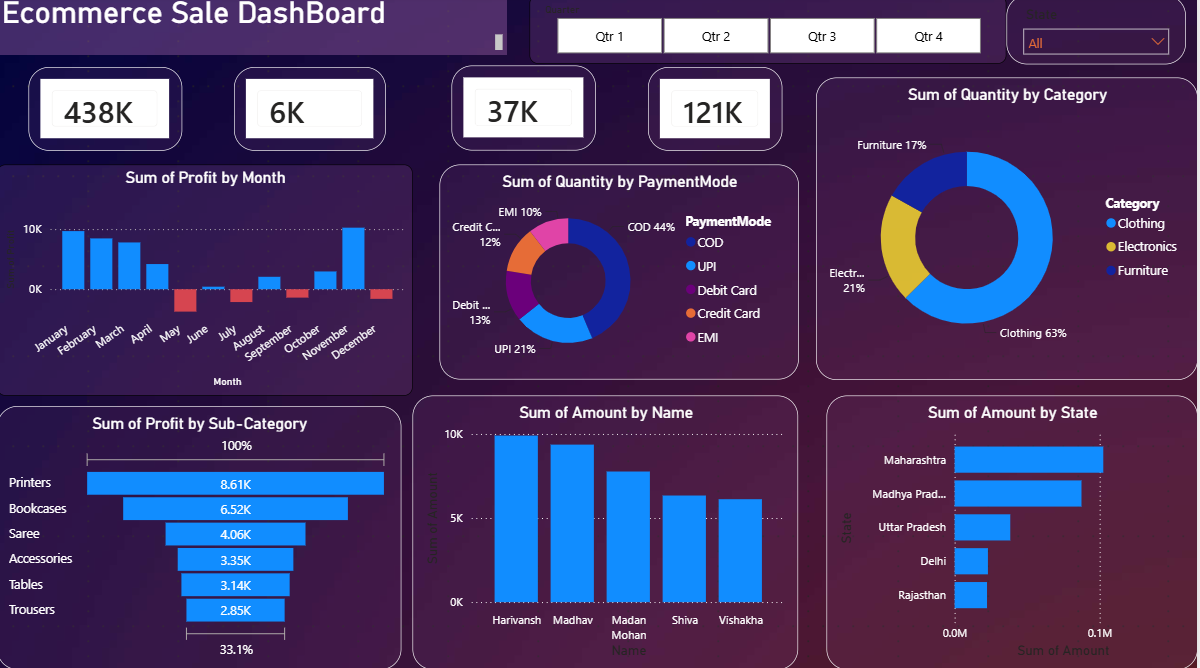

The dashboard page shown, as its layout file describes it:
{"tool":"powerbi","page":{"name":"Page 1","canvas":[1280,720],"ordinal":0},"visuals":[{"type":"textbox","title":"Ecommerce Sale DashBoard","box":[0,0,544,64],"z":0},{"type":"columnChart","fields":{"Category":["Orders.Order Date.Variation.Date Hierarchy.Month"],"Y":["Sum(Details (1).Profit)"]},"box":[0,181.2,443.5,246.4],"z":1000},{"type":"funnel","fields":{"Category":["Details (1).Sub-Category"],"Y":["Sum(Details (1).Profit)"]},"box":[0,439,431.1,281.5],"z":2000},{"type":"donutChart","fields":{"Y":["Sum(Details (1).Quantity)"],"Category":["Details (1).Category"]},"box":[873.2,87.5,407.2,322.9],"z":3000},{"type":"donutChart","fields":{"Y":["Sum(Details (1).Quantity)"],"Category":["Details (1).PaymentMode"]},"box":[472.4,181.3,383.3,229],"z":4000},{"type":"cardVisual","fields":{"Data":["Sum(Details (1).Amount)"]},"box":[33.4,76.3,163.8,89.1],"z":5000},{"type":"cardVisual","fields":{"Data":["Sum(Details (1).Quantity)"]},"box":[252.9,76.3,162.2,89.1],"z":6000},{"type":"cardVisual","fields":{"Data":["Sum(Details (1).Profit)"]},"box":[485.1,74.8,154.3,90.7],"z":7000},{"type":"cardVisual","fields":{"Data":["Sum(Details (1).Aov)"]},"box":[695.1,76.3,143.2,89.1],"z":8000},{"type":"barChart","fields":{"Category":["Orders.State"],"Y":["Sum(Details (1).Amount)"]},"box":[884.4,427.9,396.1,292.7],"z":9000},{"type":"columnChart","fields":{"Category":["Orders.Name"],"Y":["Sum(Details (1).Amount)"]},"box":[443.5,427.5,411.6,292.8],"z":10000},{"type":"slicer","fields":{"Values":["Orders.Order Date.Variation.Date Hierarchy.Quarter"]},"box":[567.8,0,509,73.2],"z":11000},{"type":"slicer","fields":{"Values":["Orders.State"]},"box":[1076.8,0,191.3,73.9],"z":12000}]}

Visuals, with their boxes in screenshot pixels (x1, y1, x2, y2), scaled from the page's 1280x720 canvas onto the 1200x668 screenshot:
"Ecommerce Sale DashBoard" textbox: {"left": 0, "top": 0, "right": 510, "bottom": 59}
columnChart - Orders.Order Date.Variation.Date Hierarchy.Month x Sum(Details (1).Profit): {"left": 0, "top": 168, "right": 416, "bottom": 397}
funnel - Details (1).Sub-Category x Sum(Details (1).Profit): {"left": 0, "top": 407, "right": 404, "bottom": 667}
donutChart - Sum(Details (1).Quantity) x Details (1).Category: {"left": 819, "top": 81, "right": 1199, "bottom": 381}
donutChart - Sum(Details (1).Quantity) x Details (1).PaymentMode: {"left": 443, "top": 168, "right": 802, "bottom": 381}
cardVisual - Sum(Details (1).Amount): {"left": 31, "top": 71, "right": 185, "bottom": 153}
cardVisual - Sum(Details (1).Quantity): {"left": 237, "top": 71, "right": 389, "bottom": 153}
cardVisual - Sum(Details (1).Profit): {"left": 455, "top": 69, "right": 599, "bottom": 154}
cardVisual - Sum(Details (1).Aov): {"left": 652, "top": 71, "right": 786, "bottom": 153}
barChart - Orders.State x Sum(Details (1).Amount): {"left": 829, "top": 397, "right": 1199, "bottom": 667}
columnChart - Orders.Name x Sum(Details (1).Amount): {"left": 416, "top": 397, "right": 802, "bottom": 667}
slicer - Orders.Order Date.Variation.Date Hierarchy.Quarter: {"left": 532, "top": 0, "right": 1010, "bottom": 68}
slicer - Orders.State: {"left": 1010, "top": 0, "right": 1189, "bottom": 69}
